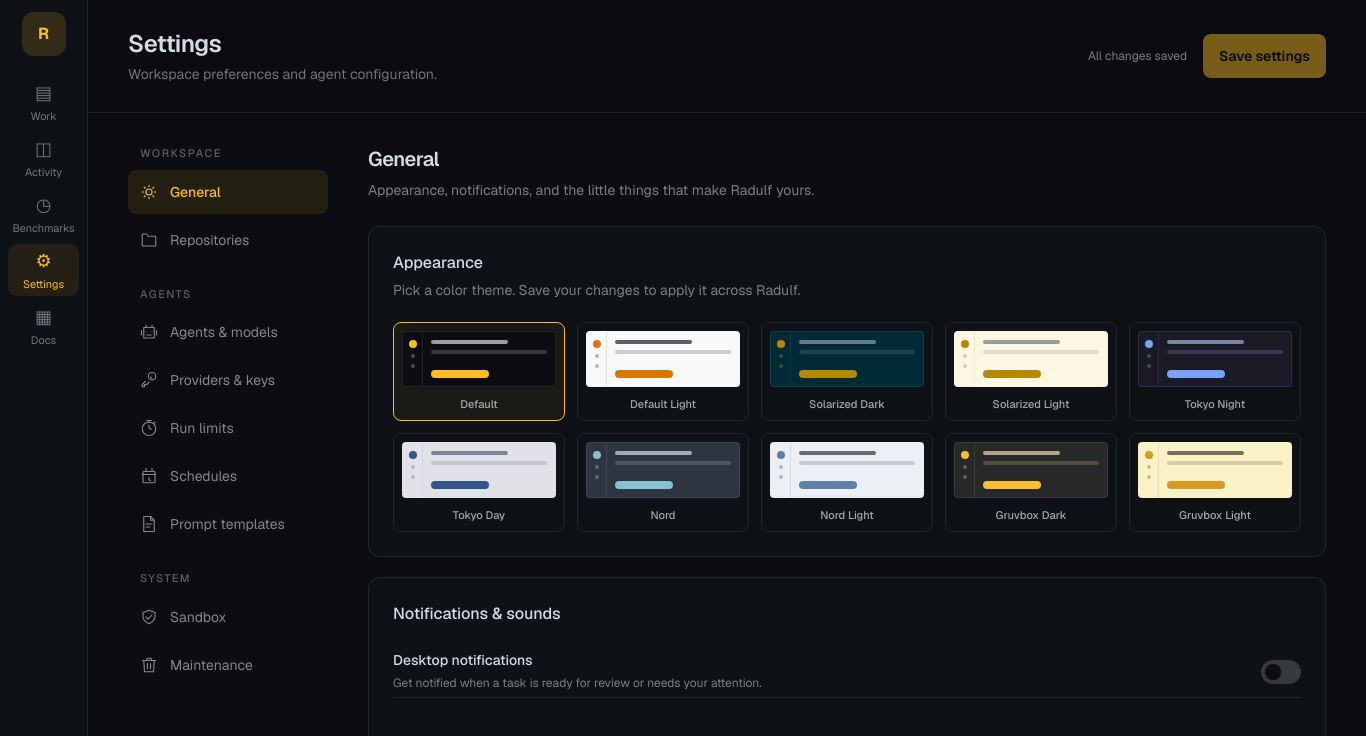
Test: SettingsPage › clones a repository from a URL in the folder browser and lists it
This screenshot has width=1366, height=736.
Expected: the heading "General" is shown, [368, 146, 439, 172]
Click the link "Repositories" at (195, 240), box [140, 230, 249, 248]
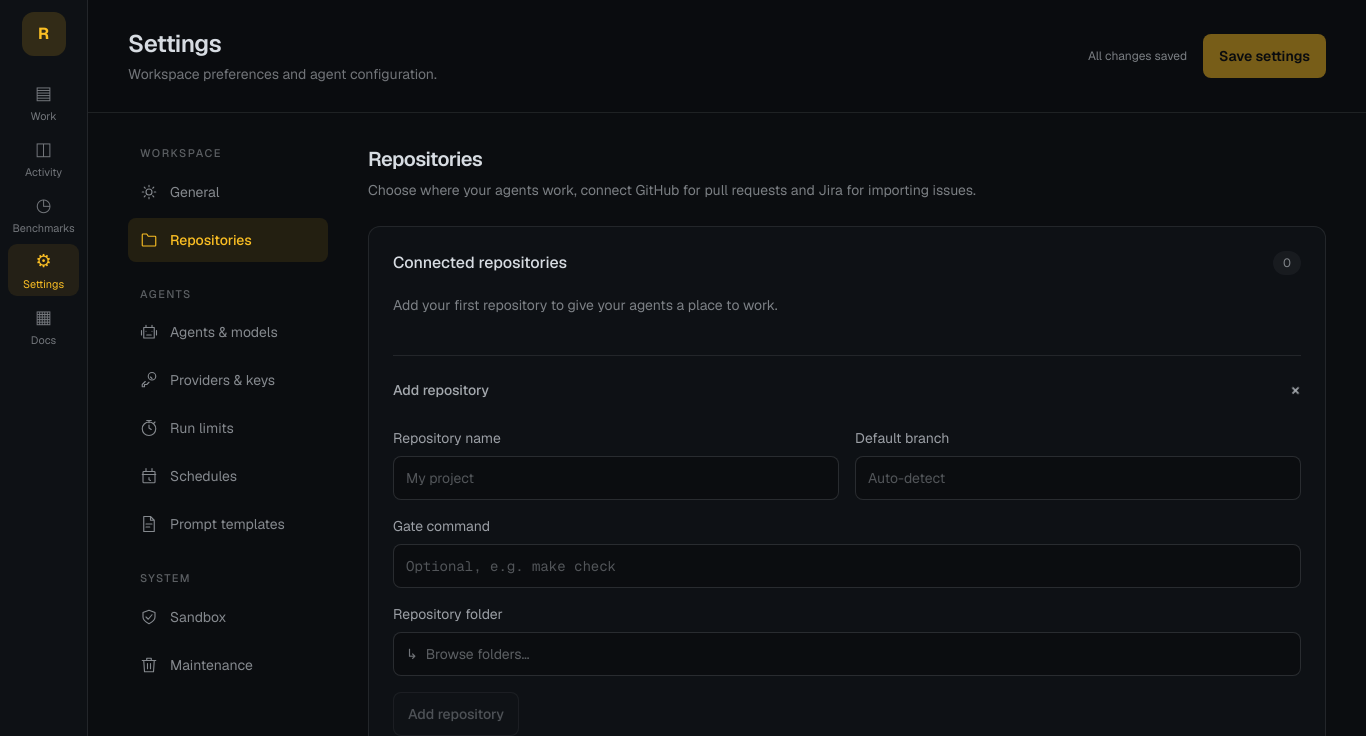
Click the button with aria-label "Choose repository folder" at (478, 654), box [393, 632, 1301, 676]
(page scrolled)
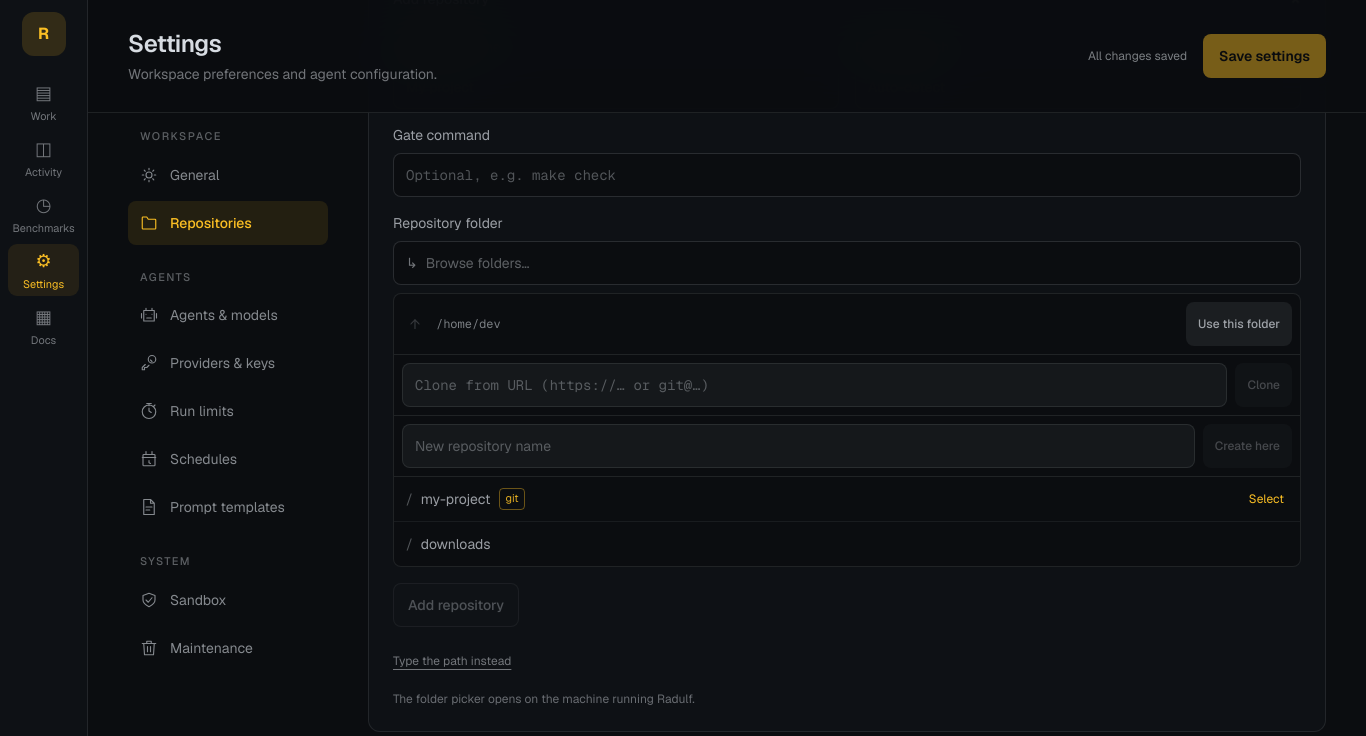
Expected: the list named "Folders" is shown, [394, 477, 1300, 566]
Type "https://example.com/acme/repo.git" into the field named "Repository URL" at (815, 385), box [402, 363, 1228, 407]
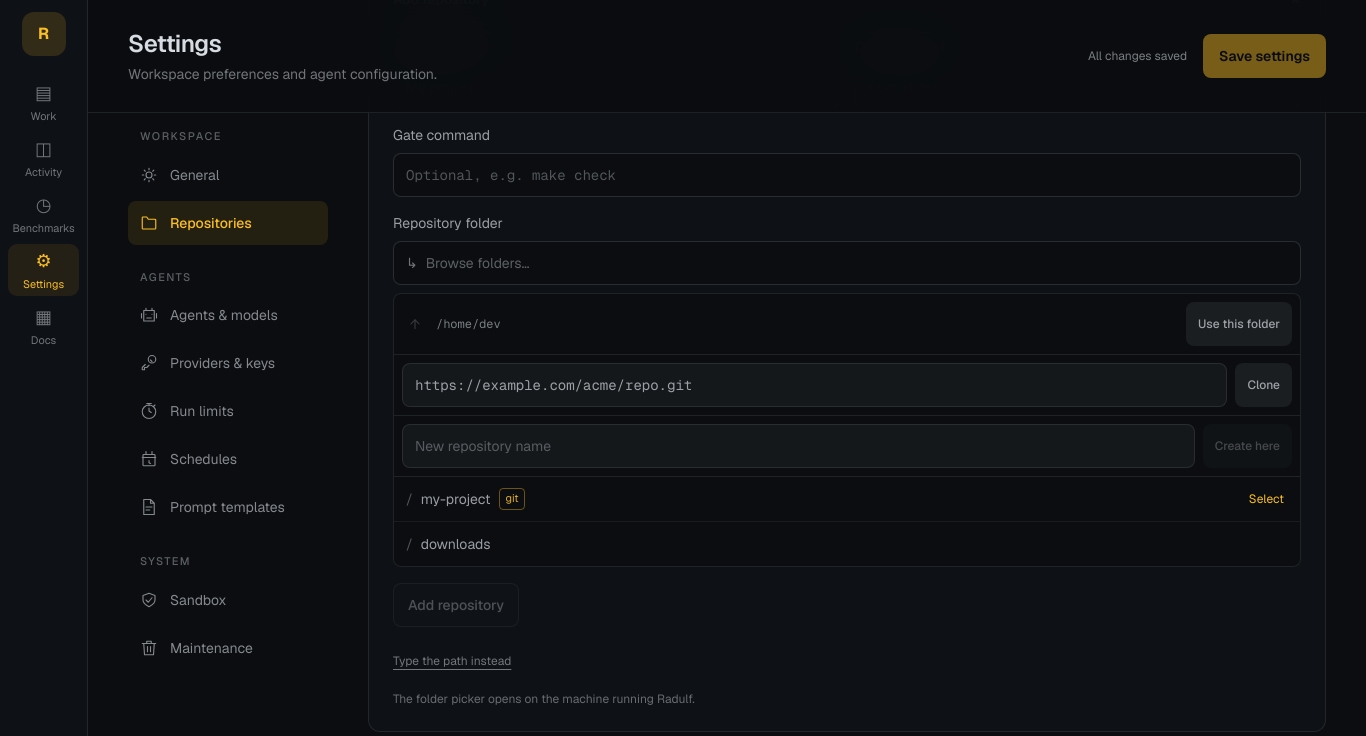
Click the button "Clone" at (1264, 385), box [1236, 363, 1292, 407]
(page scrolled)
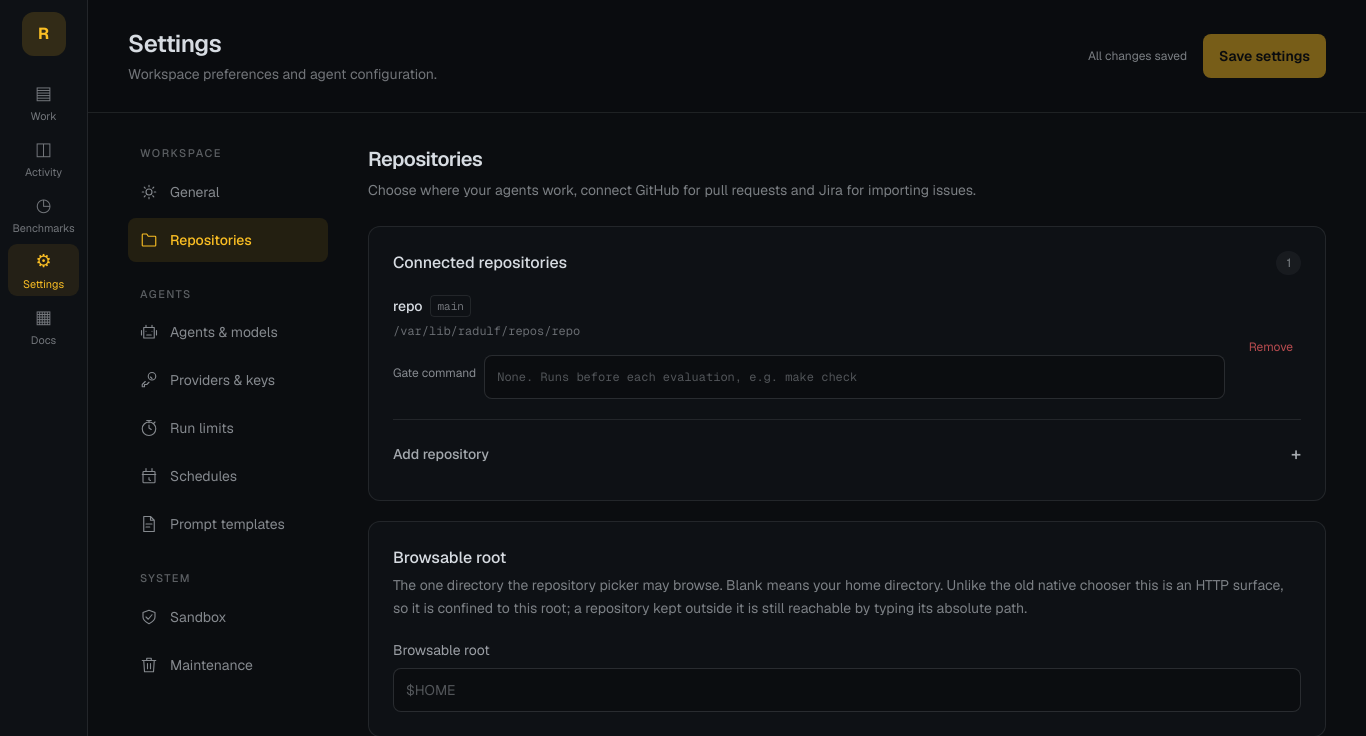
Expected: the text "repo" is shown, [393, 296, 422, 316]
Expected: the text "/var/lib/radulf/repos/repo" is shown, [393, 323, 580, 339]
Expected: the button "folders" is gone
